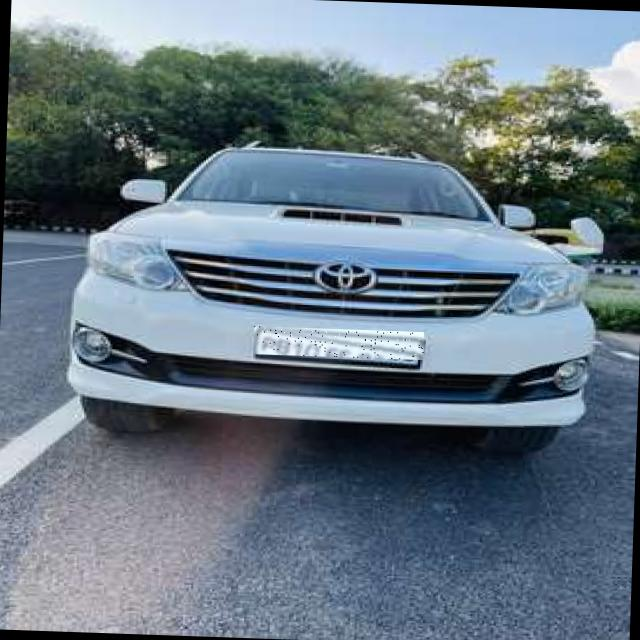Plate: (254, 327, 425, 361)
